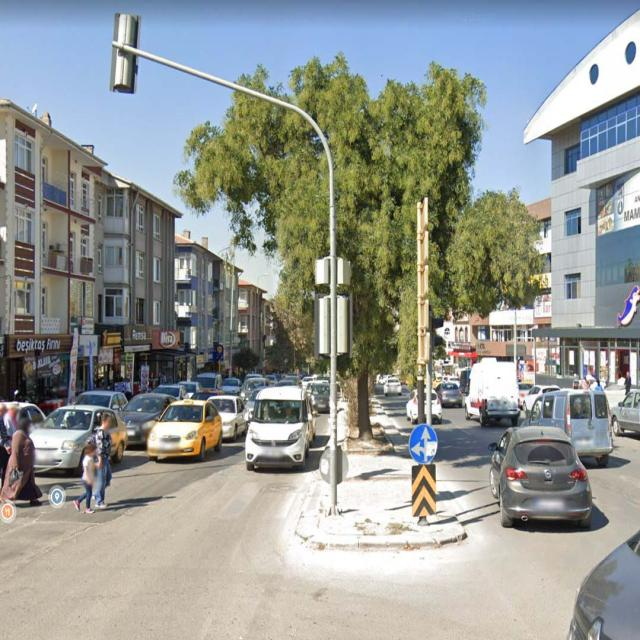ilerisol: (409, 424, 440, 467)
